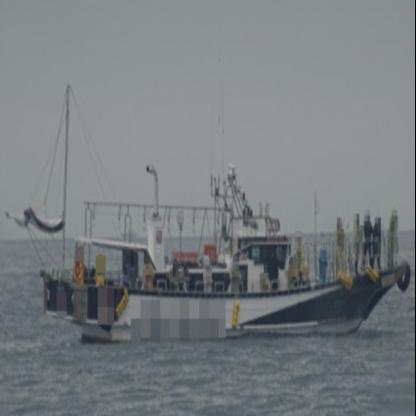fish-b: (23, 112, 415, 362)
